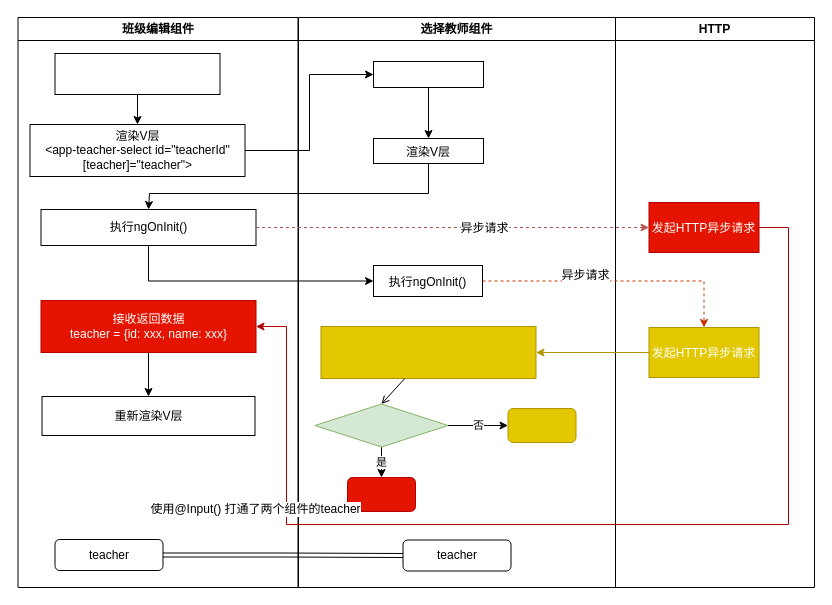
The diagram is 832 pixels wide and 605 high, and some of its shapes have lost their labels. The centre of each missing label's shape, as x and y in pixels:
"teahcer为undefind?" belongs at point (381, 425).
"初始化组件" belongs at point (428, 74).
"初始化组件 teacher值为undefined" belongs at point (137, 73).
"异常" belongs at point (381, 494).
"执行 teacher.id === this.teacher.id" belongs at point (428, 352).
"正常" belongs at point (541, 425).
